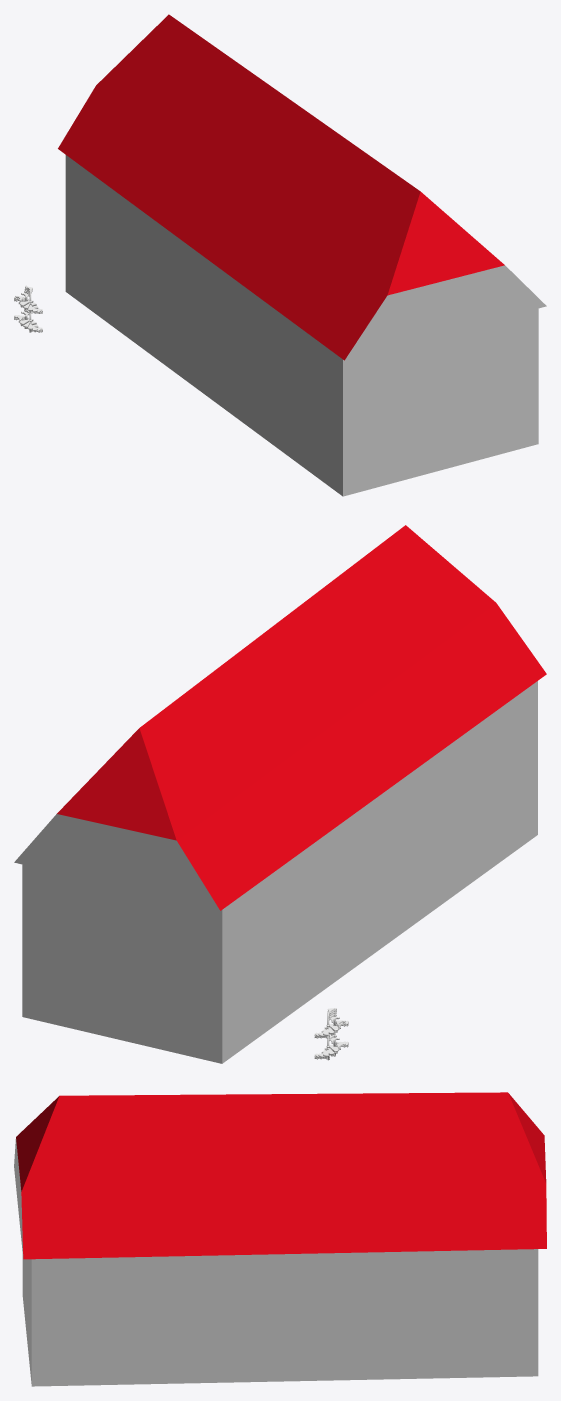
Rendered from Karlstrakt.nc.gltf.
The picture shows the model from 3 angles, top to bottom: view 1: azimuth 30°, elevation 25°; view 2: azimuth 150°, elevation 25°; view 3: azimuth 270°, elevation 25°; orthographic projection. The views are drawn at different scales.
Visible parts, largest first — view 1: Cube; view 2: Cube; view 3: Cube.
Boxes of the visible parts, left/top/right/bottom form: Cube: left=58, top=14, right=546, bottom=496; Cube: left=14, top=525, right=546, bottom=1063; Cube: left=14, top=1092, right=546, bottom=1386.
Size of the model in its own units: 31.61 by 28.71 by 56.64.
